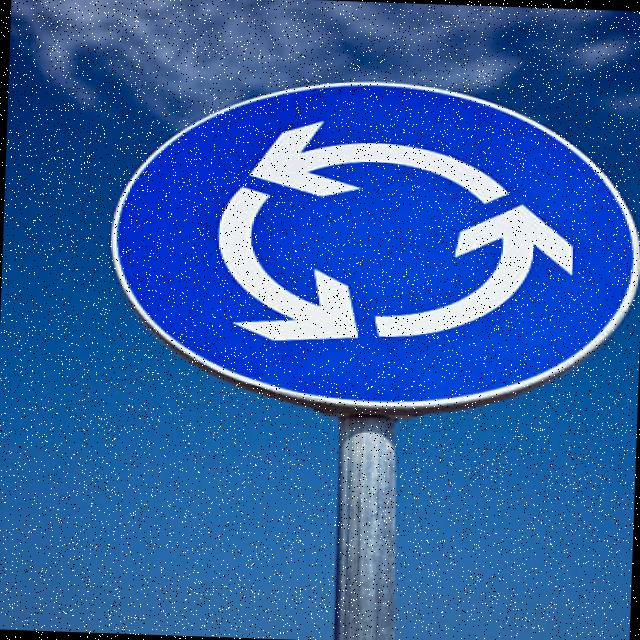round_about: (95, 71, 640, 422)
